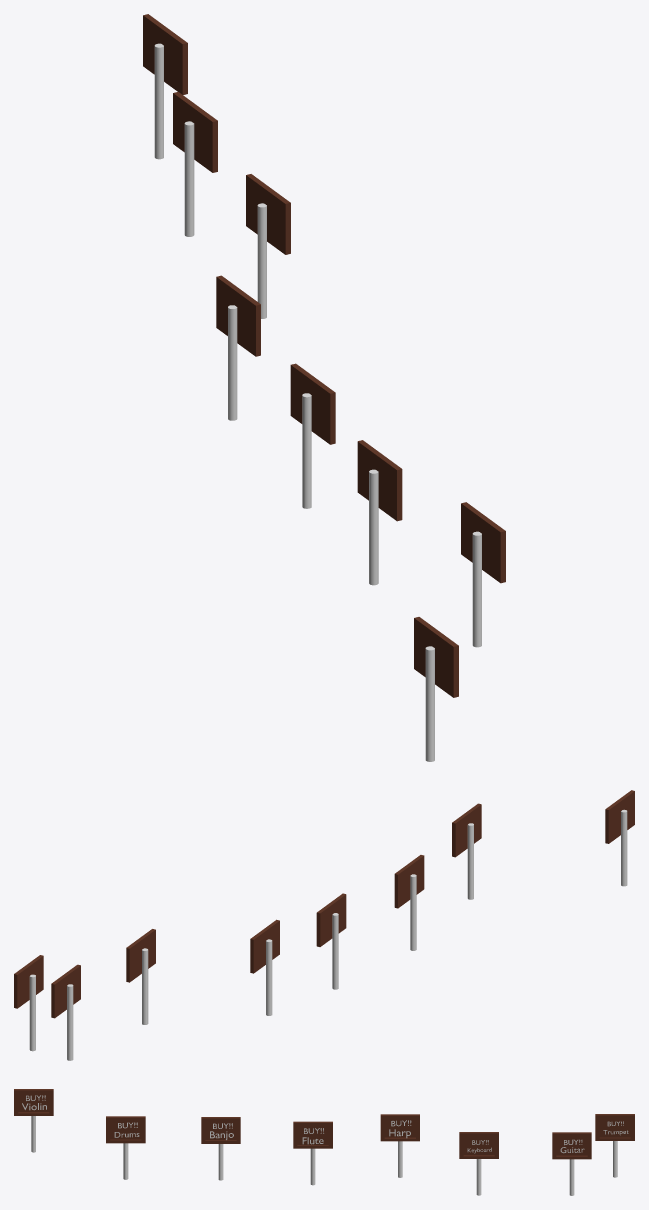
File: signs.glb
The picture shows the model from 3 angles, top to bottom: view 1: azimuth 30°, elevation 25°; view 2: azimuth 150°, elevation 25°; view 3: azimuth 270°, elevation 25°; orthographic projection. The views are drawn at different scales.
Visible parts, largest first — view 1: Cube.004, Cube.005, Cube.003, Cube, Cube.007, Cube.006, Cube.002, Cube.001, Cylinder, Cylinder.013, Cylinder.001, Cylinder.004 (+4 smaller); view 2: Cube.005, Cube.004, Cube.006, Cube, Cube.001, Cube.002, Cube.003, Cube.007, Cylinder, Cylinder.001, Cylinder.003, Cylinder.004 (+4 smaller); view 3: Cube, Cube.006, Cube.004, Cube.003, Cube.002, Cube.001, Cube.007, Cube.005, Cylinder.004, Cylinder, Cylinder.002, Cylinder.005 (+4 smaller).
Boxes of the visible parts, left/top/right/bottom form: Cube.004: left=290, top=363, right=335, bottom=444; Cube.005: left=357, top=440, right=402, bottom=521; Cube.003: left=216, top=275, right=260, bottom=356; Cube: left=173, top=92, right=217, bottom=172; Cube.007: left=414, top=617, right=458, bottom=697; Cube.006: left=461, top=502, right=505, bottom=583; Cube.002: left=246, top=174, right=290, bottom=254; Cube.001: left=143, top=14, right=187, bottom=94; Cylinder: left=184, top=121, right=194, bottom=236; Cylinder.013: left=472, top=531, right=481, bottom=647; Cylinder.001: left=154, top=43, right=163, bottom=159; Cylinder.004: left=302, top=393, right=311, bottom=508; Cube.005: left=394, top=855, right=424, bottom=908; Cube.004: left=316, top=893, right=346, bottom=946; Cube.006: left=452, top=803, right=481, bottom=857; Cube: left=51, top=964, right=80, bottom=1018; Cube.001: left=14, top=955, right=43, bottom=1008; Cube.002: left=126, top=929, right=155, bottom=982; Cube.003: left=250, top=919, right=279, bottom=973; Cube.007: left=605, top=790, right=634, bottom=843; Cylinder: left=67, top=984, right=73, bottom=1060; Cylinder.001: left=29, top=974, right=35, bottom=1051; Cylinder.003: left=266, top=939, right=272, bottom=1015; Cylinder.004: left=332, top=913, right=338, bottom=989; Cube: left=552, top=1132, right=591, bottom=1159; Cube.006: left=106, top=1116, right=145, bottom=1143; Cube.004: left=293, top=1121, right=332, bottom=1148; Cube.003: left=380, top=1114, right=419, bottom=1141; Cube.002: left=459, top=1132, right=498, bottom=1158; Cube.001: left=595, top=1114, right=634, bottom=1140; Cube.007: left=14, top=1089, right=53, bottom=1115; Cube.005: left=201, top=1117, right=240, bottom=1143; Cylinder.004: left=310, top=1148, right=315, bottom=1185; Cylinder: left=569, top=1159, right=574, bottom=1195; Cylinder.002: left=476, top=1159, right=481, bottom=1195; Cylinder.005: left=218, top=1144, right=223, bottom=1180.
Bounding box in the file's own units: 13.29 × 8.93 × 44.08.
